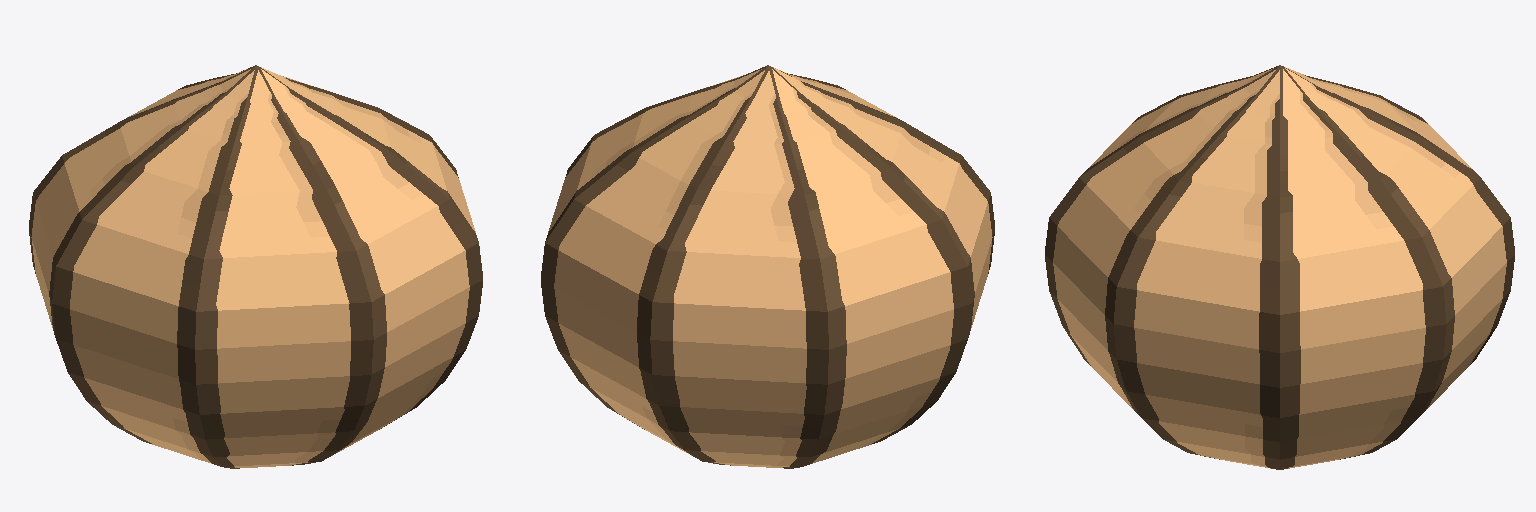
The picture shows the model from 3 angles: view 1: azimuth 30°, elevation 25°; view 2: azimuth 150°, elevation 25°; view 3: azimuth 270°, elevation 25°; orthographic projection.
Parts seen in each view (by area): view 1: 球; view 2: 球; view 3: 球.
Boxes of the visible parts, <box> form: 球: <box>29,65,482,468</box>; 球: <box>541,65,994,468</box>; 球: <box>1045,65,1514,469</box>.
Size of the model in its own units: 2 by 1.79 by 2.
Materials: 1 (1 with a texture image).